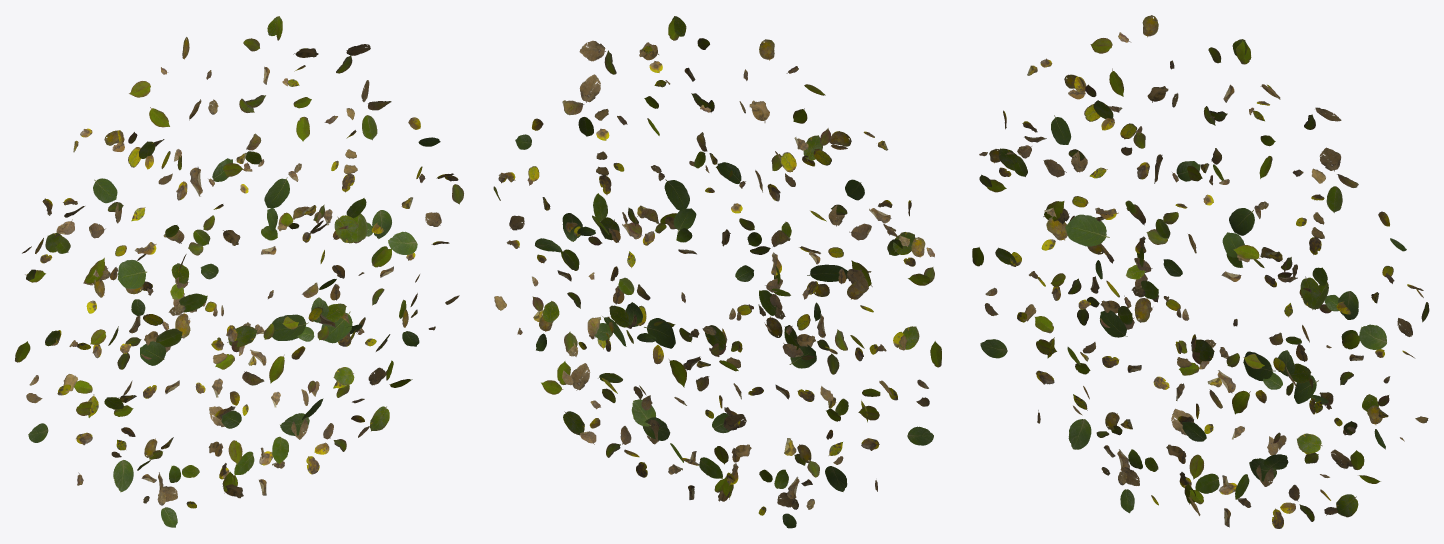
Rendered from Leaf_Pile_02_Var1_LOD1.fbx.
3 views of the same model, side by side, from view 1: azimuth 30°, elevation 25°; view 2: azimuth 150°, elevation 25°; view 3: azimuth 330°, elevation 25° (orthographic). The views are drawn at different scales.
Visible parts, largest first — view 1: Var1_LOD1; view 2: Var1_LOD1; view 3: Var1_LOD1.
Boxes of the visible parts, x1,y1,x2,y2 form: Var1_LOD1: [15, 16, 463, 527]; Var1_LOD1: [493, 16, 941, 528]; Var1_LOD1: [972, 15, 1429, 528].
Size of the model in its own units: 165 by 172 by 8.79.
